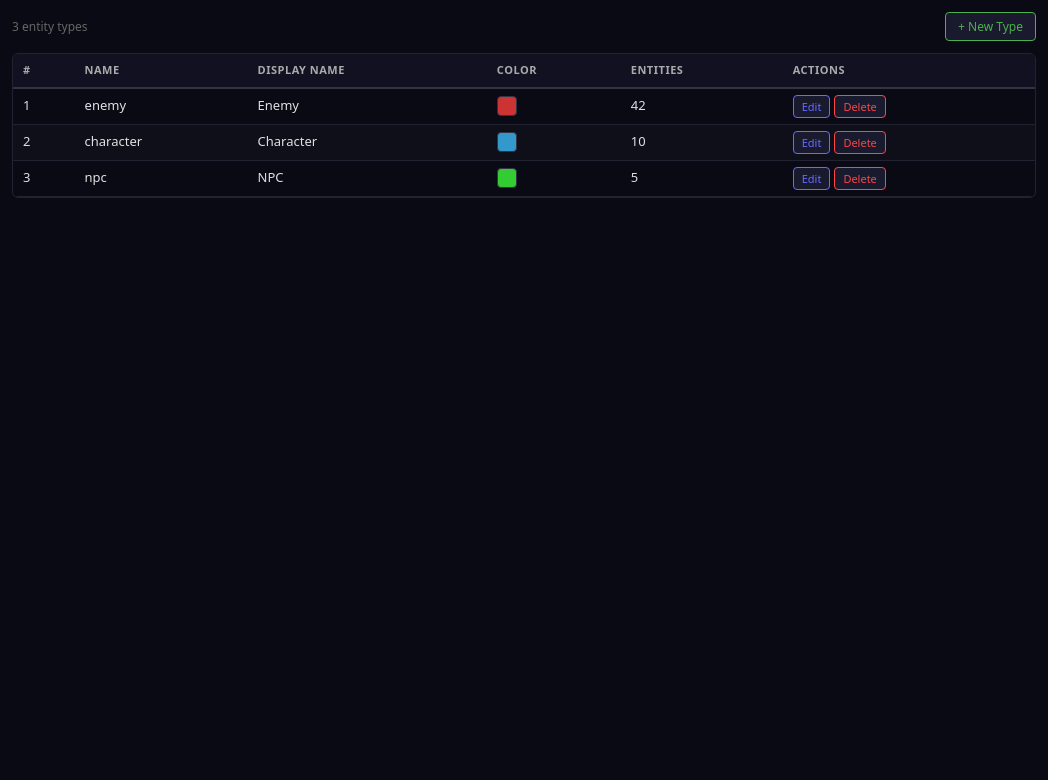
EntityTypeManager › opens edit form on edit click
Expected: the text "Enemy" is shown, top-left (248, 88), bottom-right (487, 124)
Click the button "Edit" next to "42": click(812, 106) top-left (793, 94), bottom-right (830, 118)
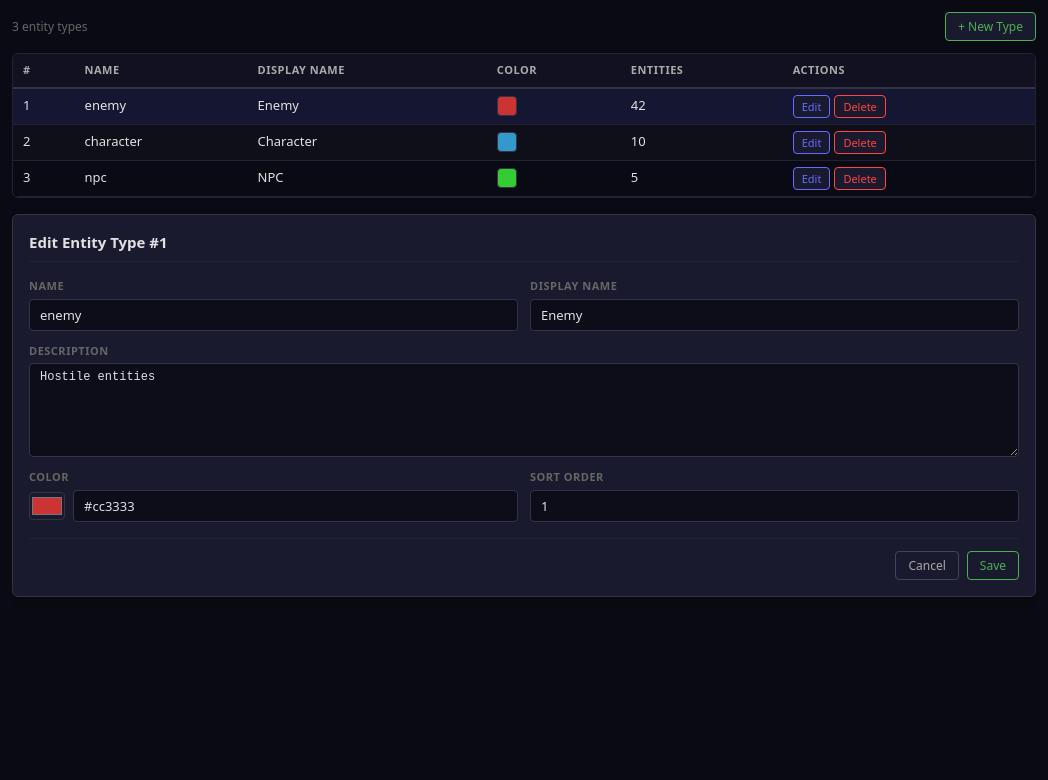
Expected: the heading "Edit Entity Type #1" is shown, top-left (29, 230), bottom-right (1019, 262)
Expected: the 1st field showing "enemy" is shown, top-left (29, 298), bottom-right (518, 330)
Expected: the 2nd field showing "Enemy" is shown, top-left (530, 298), bottom-right (1019, 330)
